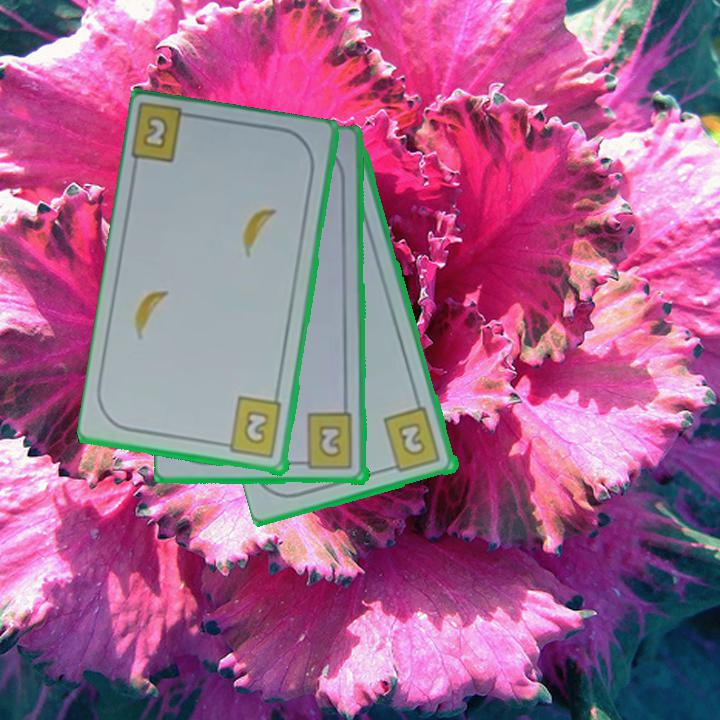2b: (217, 394, 286, 461), (380, 404, 444, 475), (295, 411, 356, 473), (139, 112, 171, 153)
